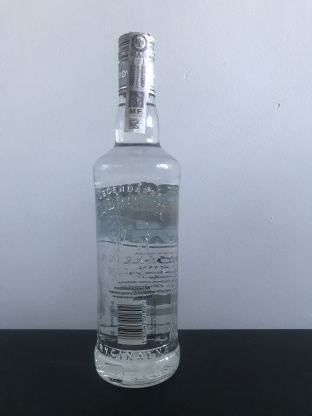nakretka: (115, 28, 158, 98)
